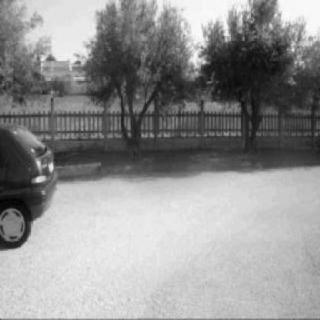other: (1, 114, 61, 253)
